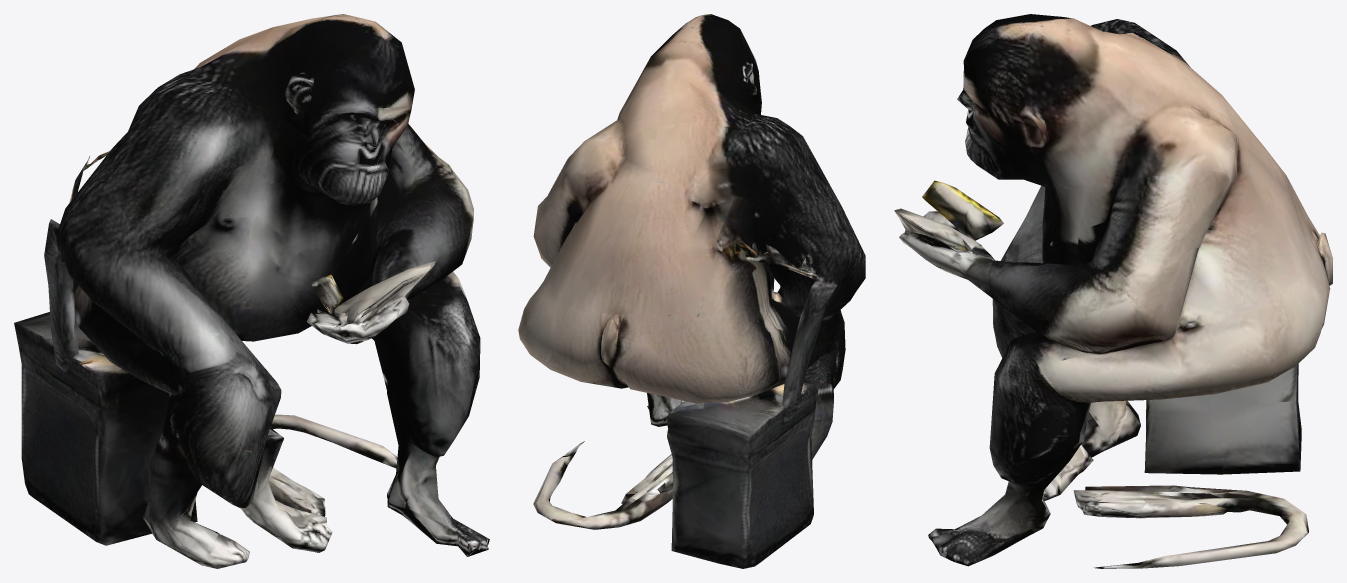
3 renders of one model, left to right at view 1: azimuth 30°, elevation 25°; view 2: azimuth 150°, elevation 25°; view 3: azimuth 270°, elevation 25°, orthographic. The views are drawn at different scales.
Parts seen in each view (by area): view 1: geometry_0; view 2: geometry_0; view 3: geometry_0.
Part boxes in pixels (left/top/right/bottom): geometry_0: left=14, top=14, right=489, bottom=568; geometry_0: left=518, top=14, right=865, bottom=568; geometry_0: left=894, top=14, right=1332, bottom=568.
Bounding box in the file's own units: 1.48 × 1.9 × 1.51.
Materials: 1 (1 with a texture image).
